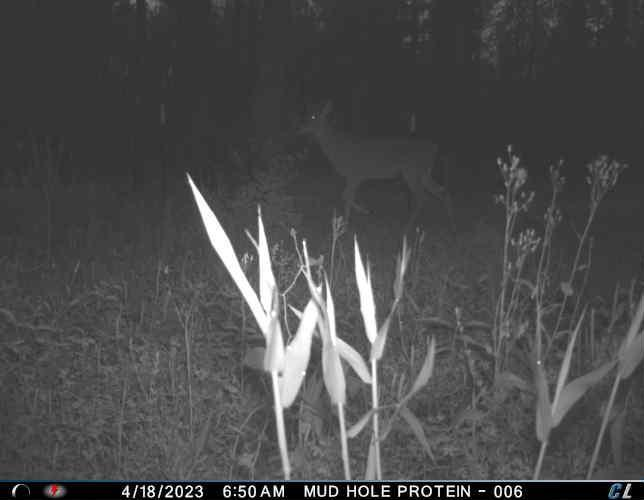Deer: (294, 95, 463, 239)
